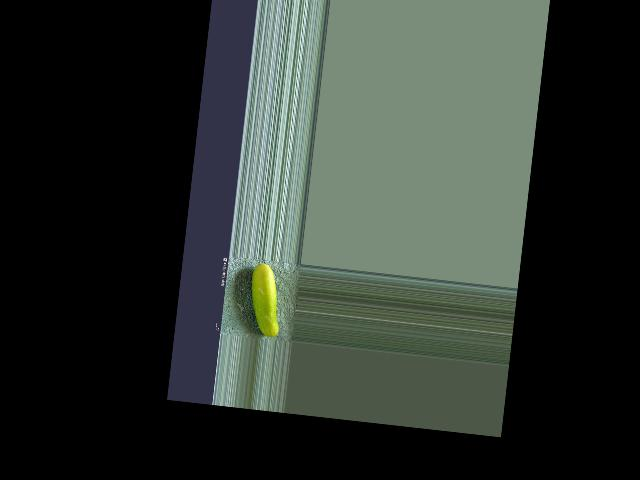cucumber: (245, 262, 285, 338)
